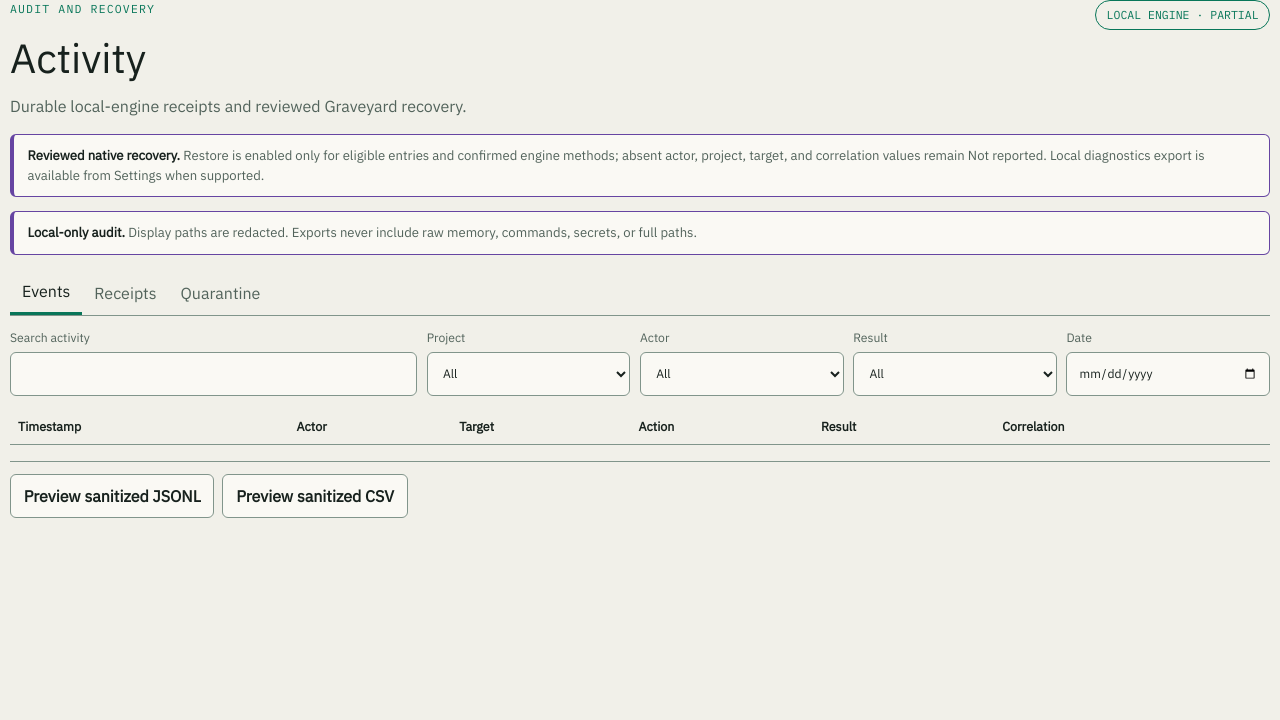
native local workflows › restores a native Graveyard entry only after its exact reviewed plan
The image size is (1280, 720).
Step 1. Click the tab "Quarantine" → (220, 293), box [168, 271, 272, 315]
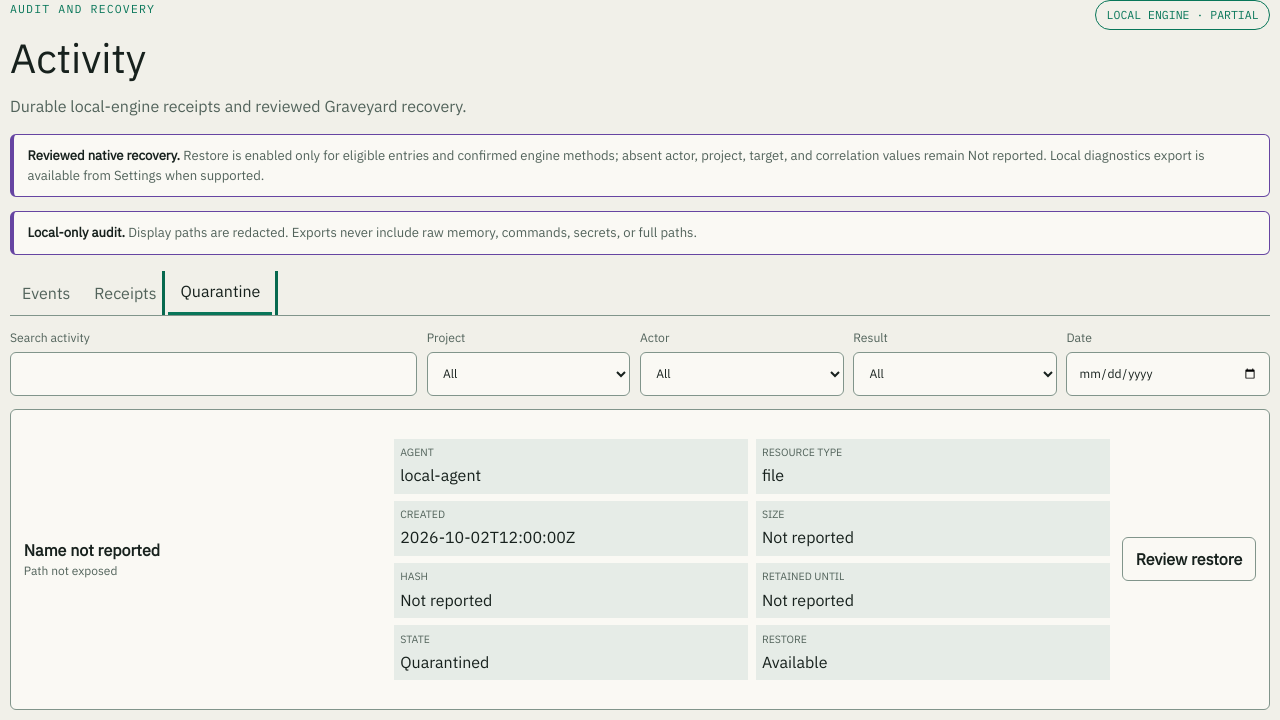
Step 2. Click the button "Review restore" → (1189, 559), box [1122, 537, 1256, 581]
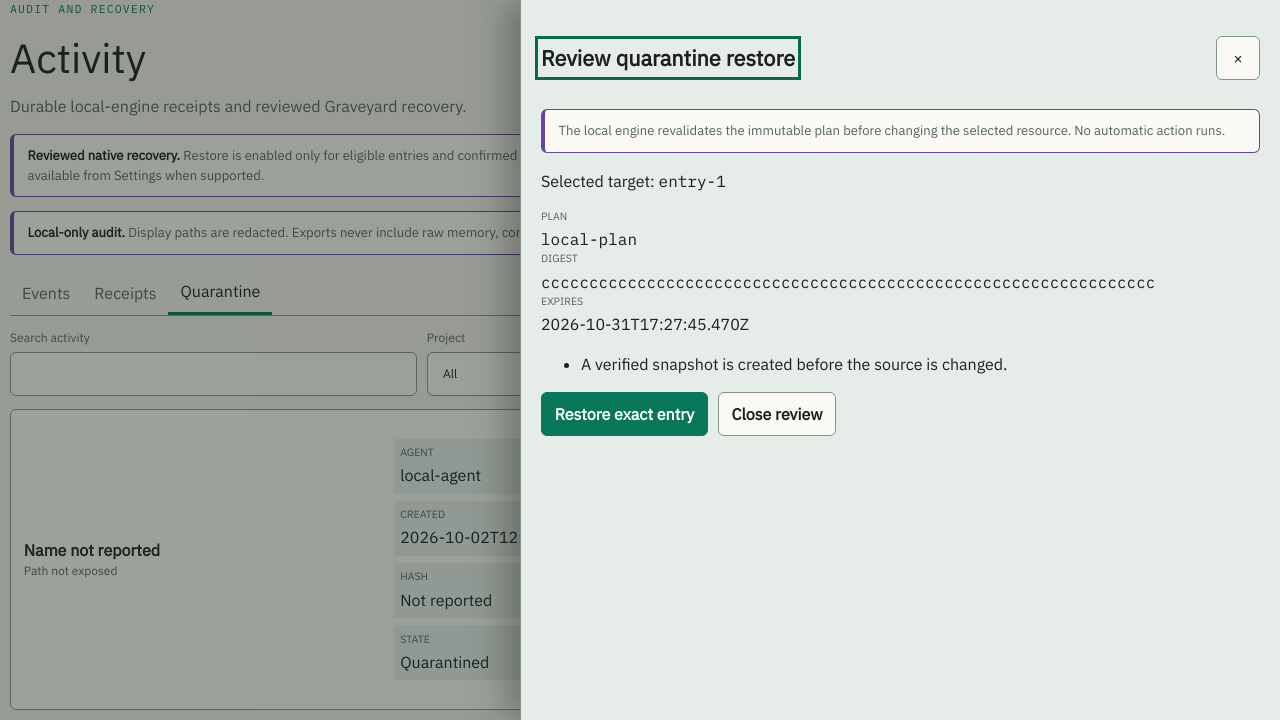
Step 3. Click the button "Restore exact entry" → (625, 414), box [541, 392, 708, 436]
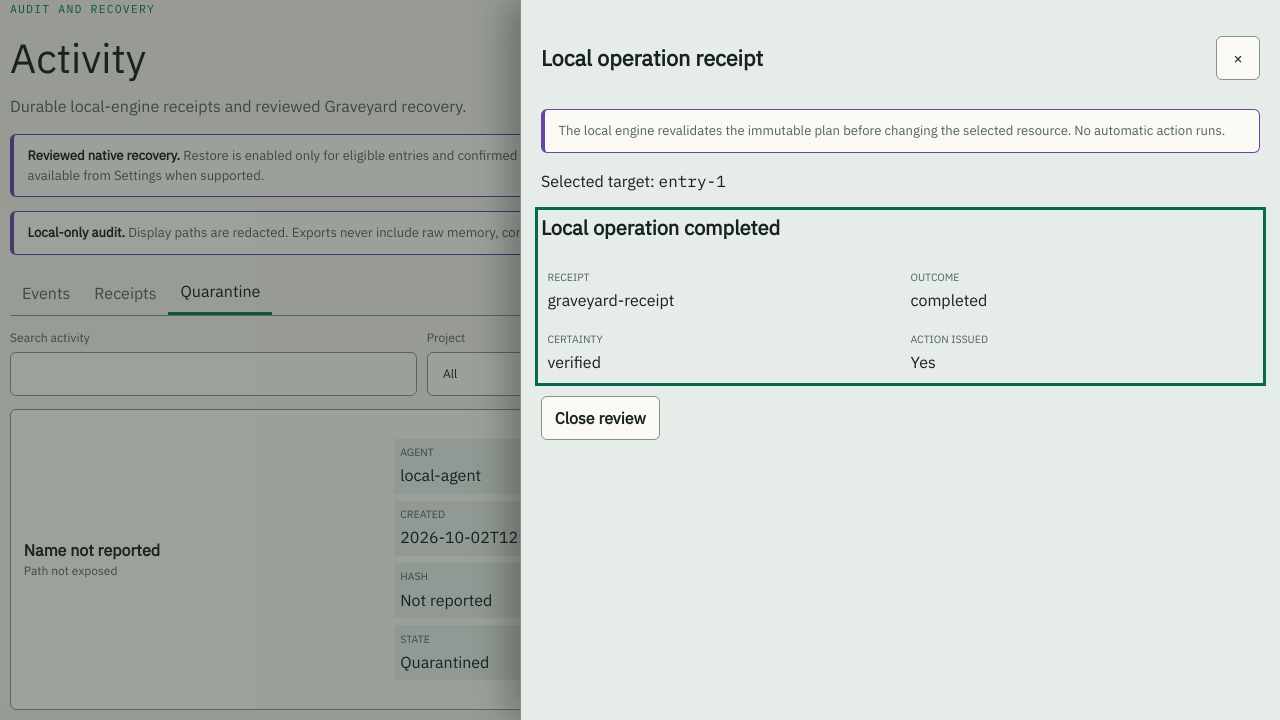
Now the text "graveyard-receipt" is shown, box [547, 290, 674, 310]
